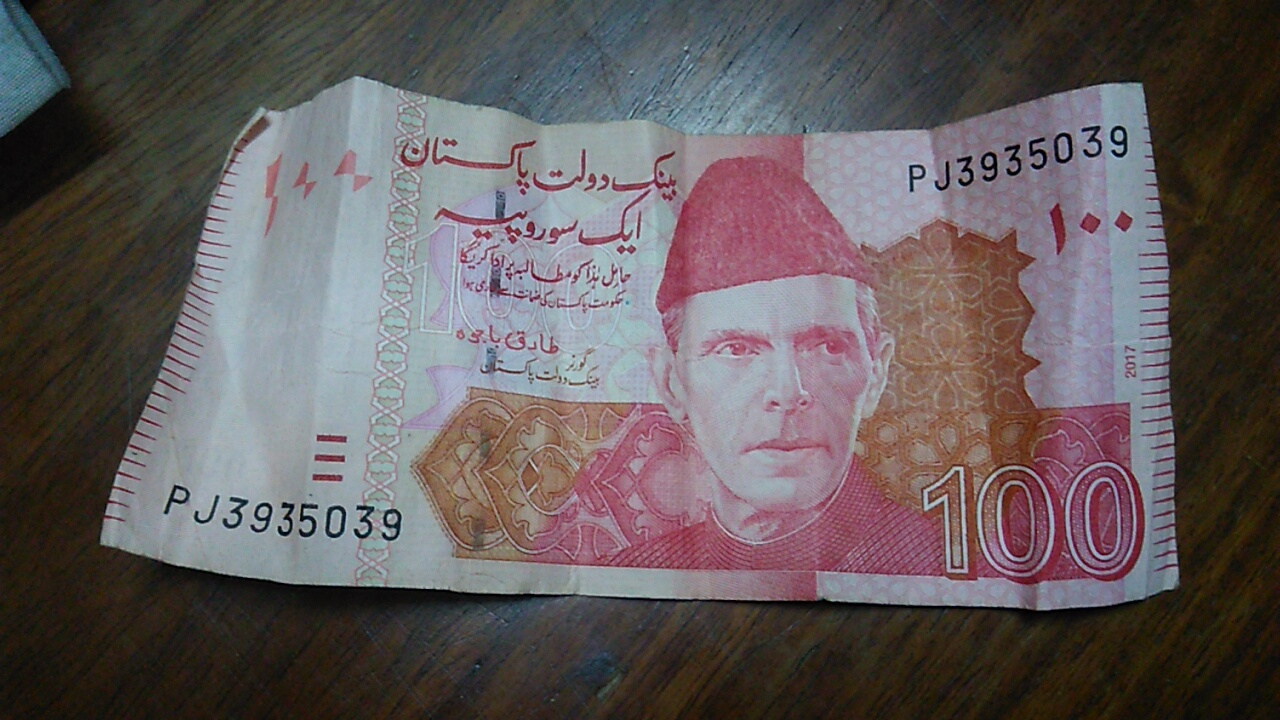100 rupee: (77, 48, 1191, 647)
